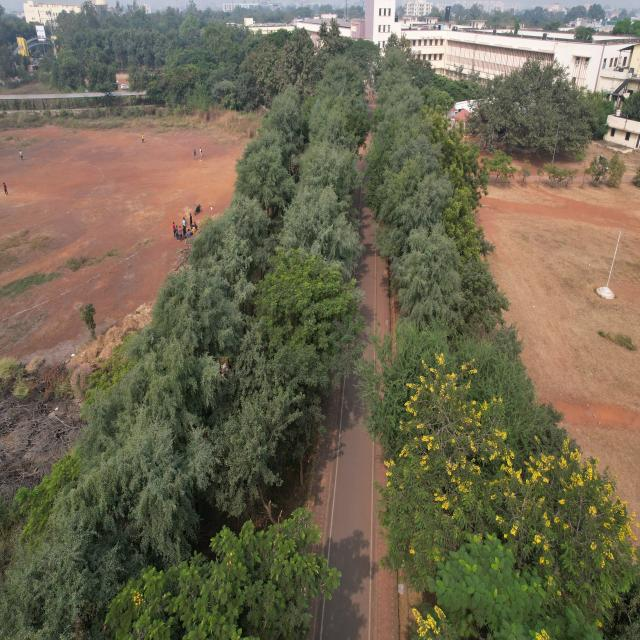Devakanchan tree: (220, 394, 287, 517)
Neem Tree: (439, 129, 476, 212), (455, 222, 478, 264)
